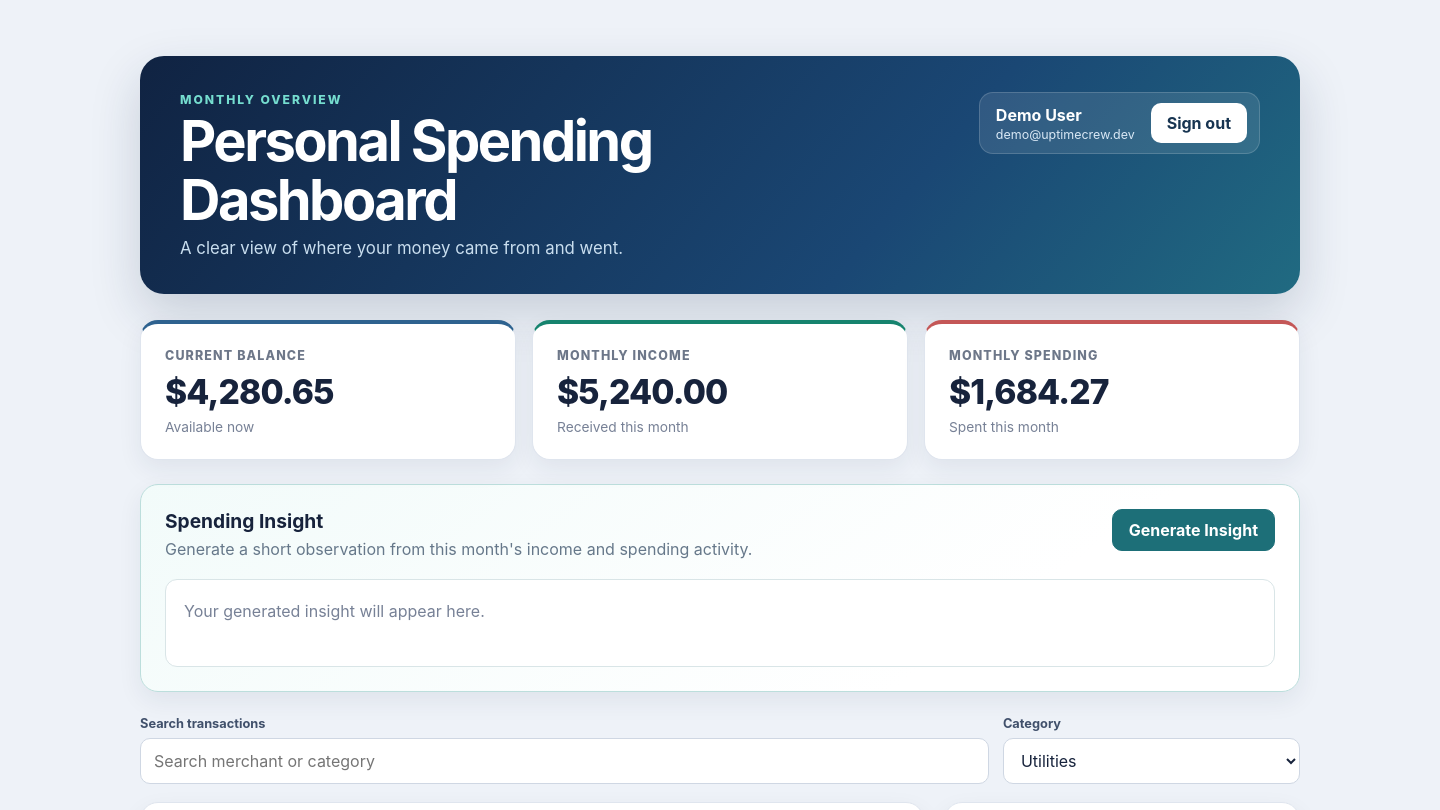
it: Day 5 application › logs out, removes authenticated transaction cache, and preserves category
Click the button "Sign out" at (1199, 123), box [1151, 103, 1247, 143]
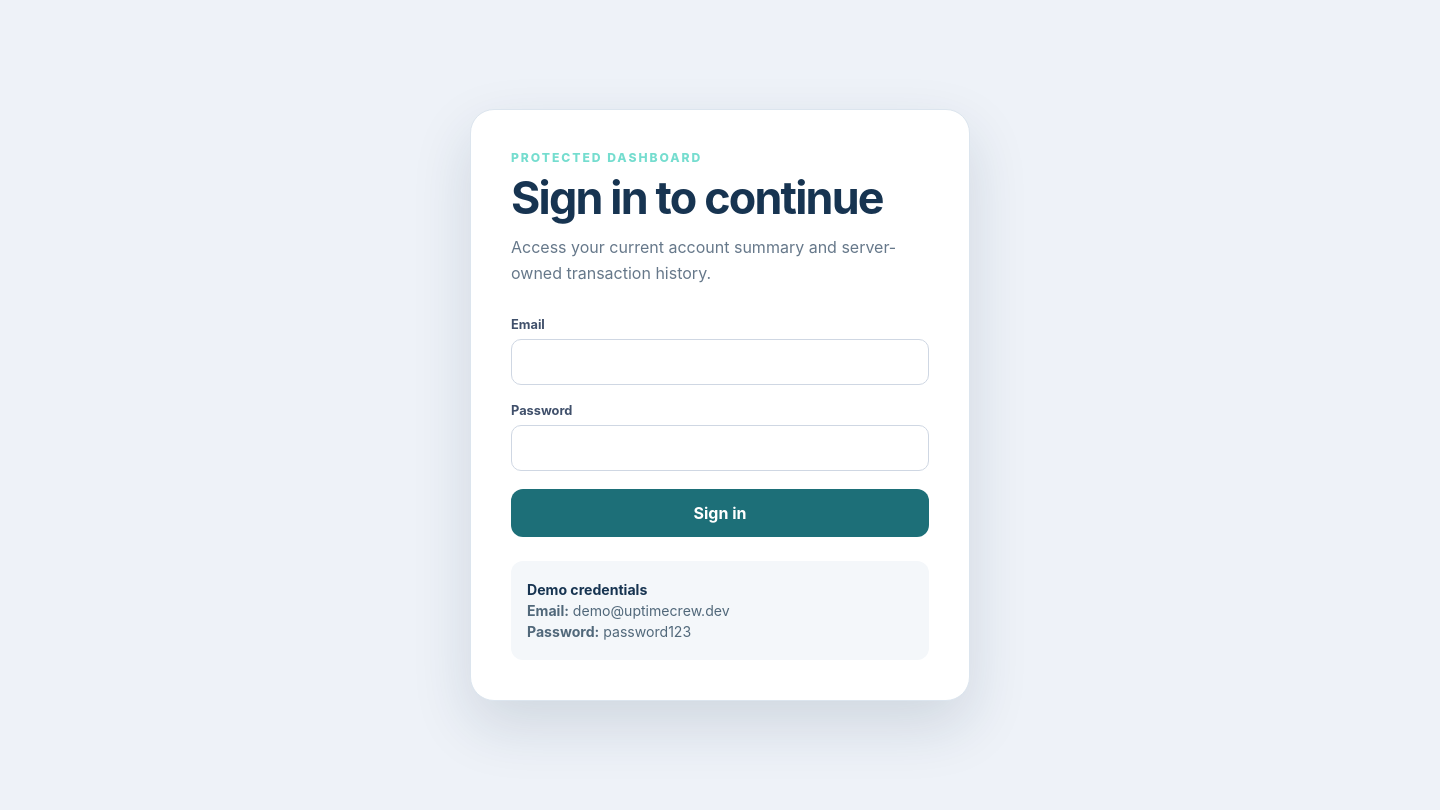
Now the heading "Sign in to continue" is shown, box [511, 171, 929, 225]
